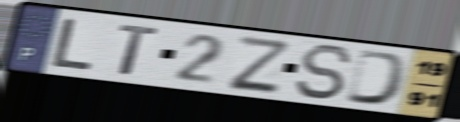2: (172, 33, 227, 86)
D: (343, 47, 411, 108)
L: (49, 16, 97, 72)
S: (293, 42, 355, 102)
T: (116, 22, 162, 78)
Z: (226, 33, 290, 93)
